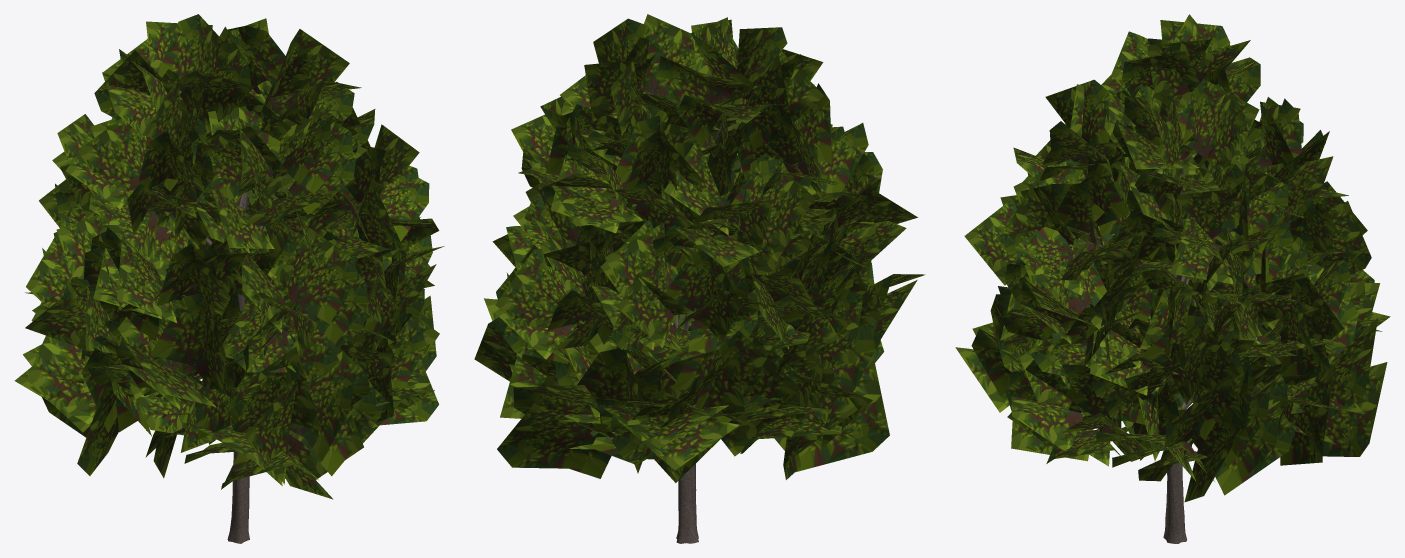
Rendered from SM_FAR_CedarElm_01.fbx.
The picture shows the model from 3 angles, left to right: view 1: azimuth 30°, elevation 25°; view 2: azimuth 150°, elevation 25°; view 3: azimuth 270°, elevation 25°; orthographic projection. The views are drawn at different scales.
Parts seen in each view (by area): view 1: SM_FAR_CedarElm_01.mo; view 2: SM_FAR_CedarElm_01.mo; view 3: SM_FAR_CedarElm_01.mo.
Boxes of the visible parts, bbox=[...] form: SM_FAR_CedarElm_01.mo: bbox=[14, 14, 444, 543]; SM_FAR_CedarElm_01.mo: bbox=[474, 14, 925, 543]; SM_FAR_CedarElm_01.mo: bbox=[955, 14, 1390, 543].
Size of the model in its own units: 2055 by 2577 by 2077.
